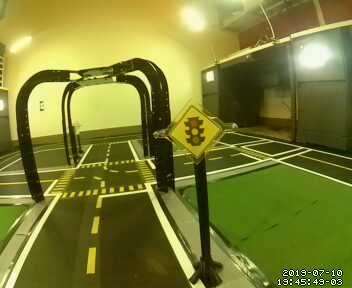Traffic light sign: (170, 104, 222, 156)
